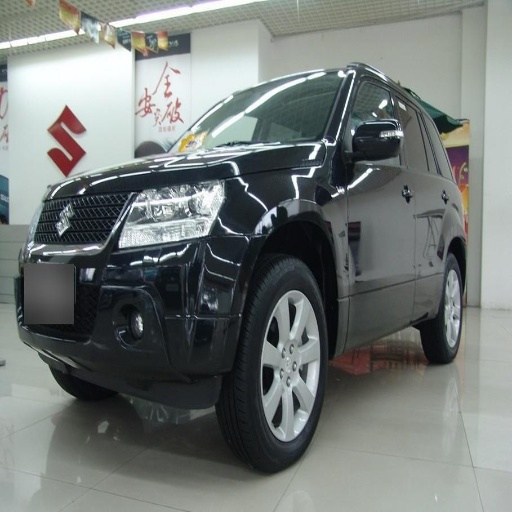back_glass: (223, 88, 270, 137)
front_bumper: (21, 191, 241, 388)
front_glass: (268, 75, 338, 139)
front_left_door: (341, 68, 417, 319)
